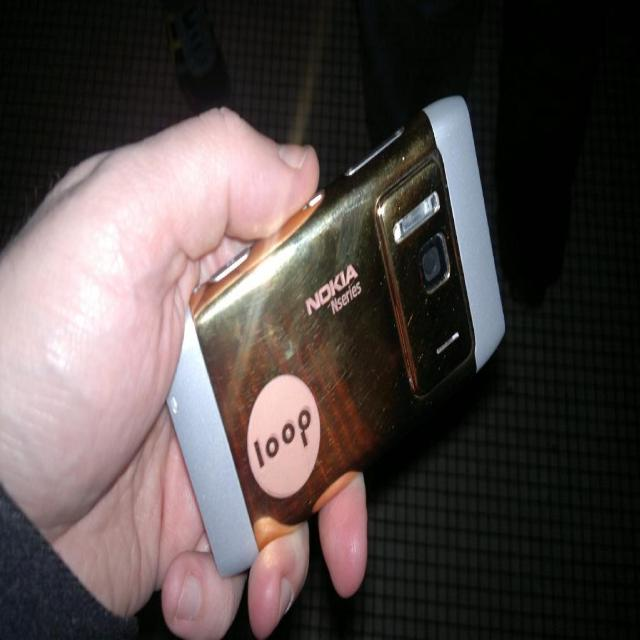Mobile-phone: (162, 97, 506, 579)
